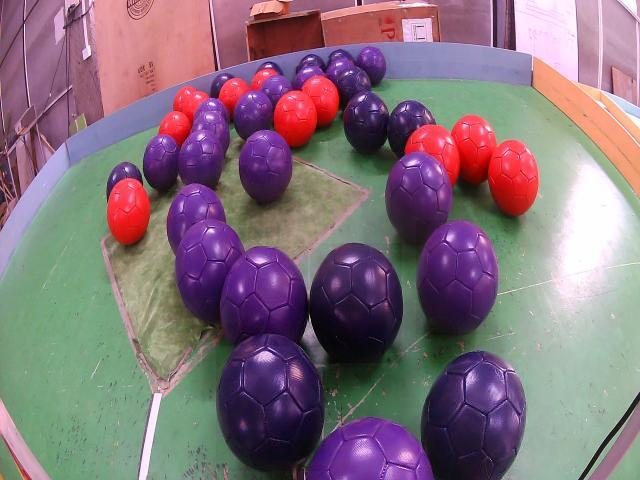jambhalya: (416, 220, 499, 335), (220, 246, 308, 346), (175, 219, 245, 323), (385, 152, 452, 243), (166, 184, 226, 253), (239, 130, 292, 203), (178, 130, 223, 188), (144, 135, 179, 191), (234, 90, 273, 140), (191, 111, 230, 155), (356, 46, 386, 86), (260, 75, 292, 108), (194, 99, 229, 124), (326, 58, 354, 85), (294, 67, 324, 89)
kaalyya: (216, 335, 325, 471), (421, 352, 527, 478), (310, 244, 402, 363), (344, 92, 389, 153), (389, 100, 434, 158), (336, 67, 371, 108), (107, 162, 142, 198), (210, 72, 233, 98), (297, 54, 326, 74), (327, 50, 355, 65), (257, 60, 282, 75)
